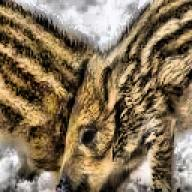boar: (54, 0, 192, 192), (0, 0, 100, 192)
